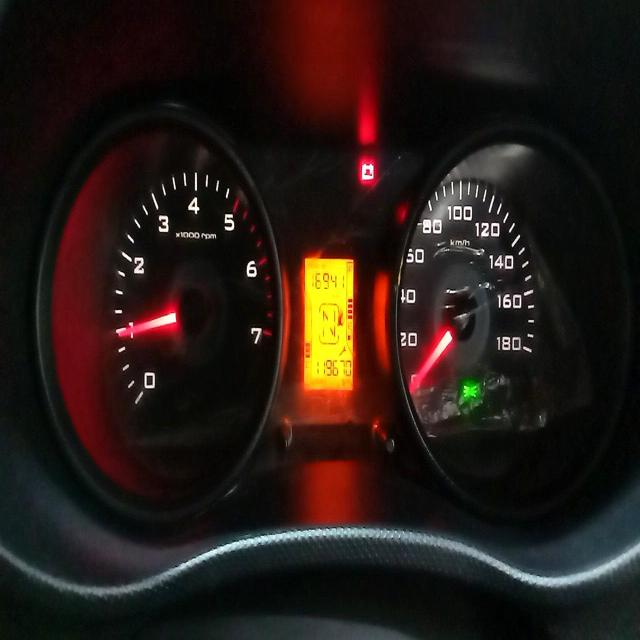odometer: (315, 357, 352, 379)
